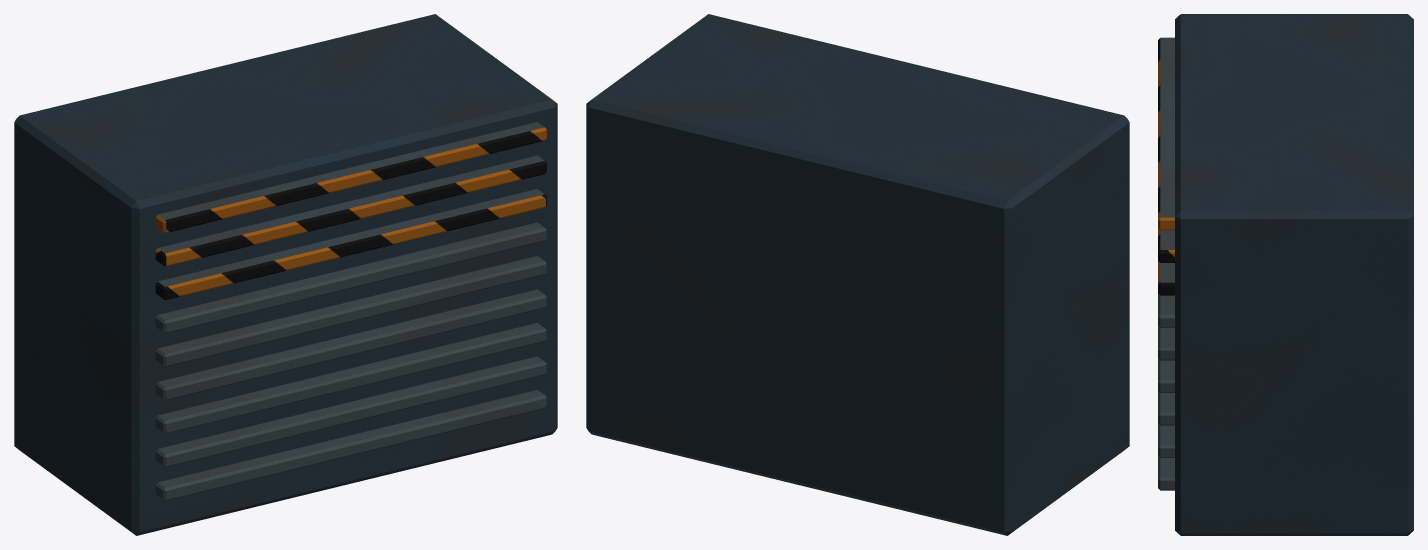
The model's file is Decor_Vent.fbx.
The picture shows the model from 3 angles, left to right: view 1: azimuth 30°, elevation 25°; view 2: azimuth 150°, elevation 25°; view 3: azimuth 270°, elevation 25°; orthographic projection. The views are drawn at different scales.
Parts seen in each view (by area): view 1: ENV_Foundry_Decor_Vent_LOD0; view 2: ENV_Foundry_Decor_Vent_LOD0; view 3: ENV_Foundry_Decor_Vent_LOD0.
Boxes of the visible parts, box(x1,y1,x2,y2) form: ENV_Foundry_Decor_Vent_LOD0: box(14, 14, 557, 535); ENV_Foundry_Decor_Vent_LOD0: box(586, 14, 1129, 535); ENV_Foundry_Decor_Vent_LOD0: box(1158, 14, 1413, 535).
Size of what is drawn, in the model's own units: 2 by 1.5 by 1.07.
